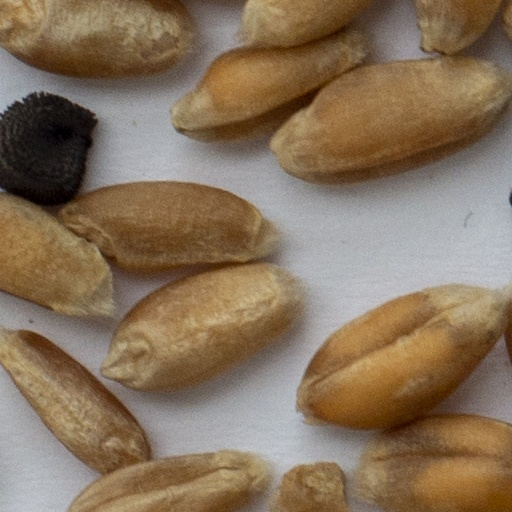Agrostemma-poly: (0, 94, 92, 204)
Wheat-grain-damaged-poly: (272, 462, 346, 511)
